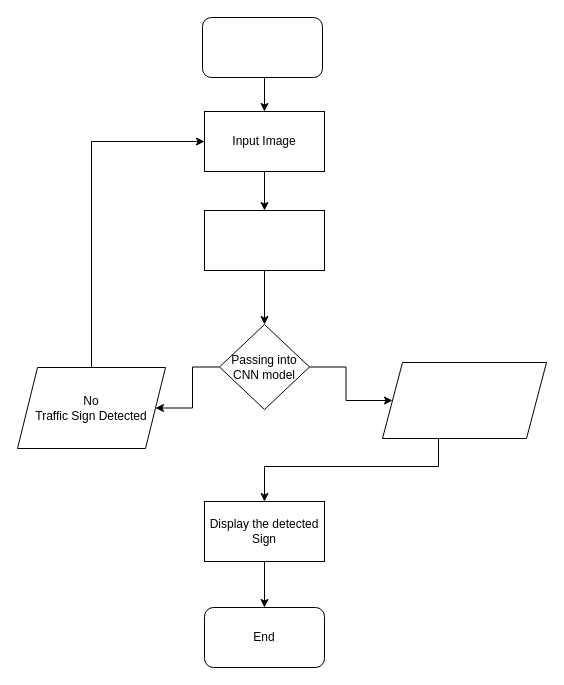
This 564x685 diagram has some shape labels left out. The centre of each missing label's shape, as x and y in pixels:
"Image Preprocessing" goes at (x=264, y=240).
"Start" goes at (x=262, y=47).
"Traffic Sign Detected" goes at (x=464, y=400).
